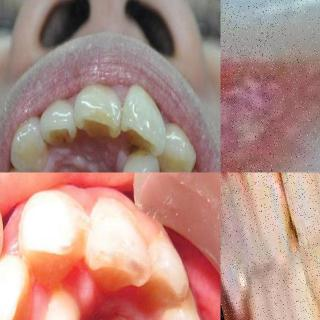Gum Swelling: (220, 41, 320, 172)
maligned: (119, 85, 171, 159), (25, 287, 90, 320), (102, 148, 160, 172)
plaque: (82, 191, 150, 238)
